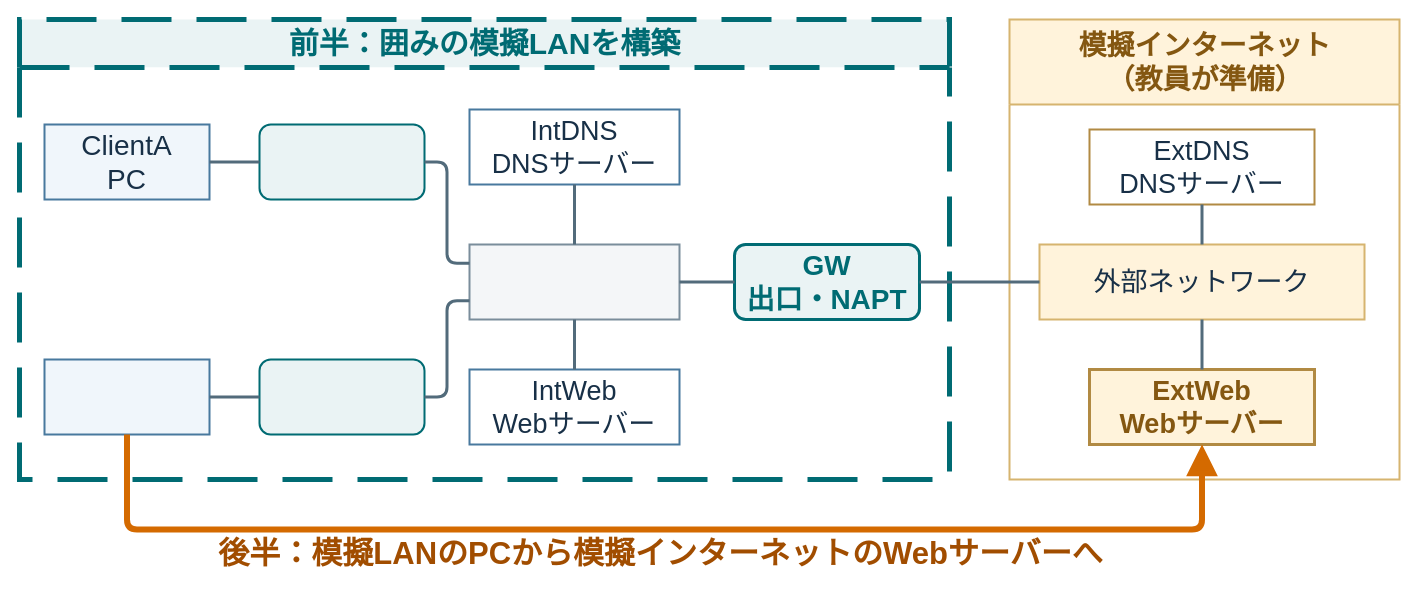
The diagram is 1418 pixels wide and 589 high, and some of its shapes have lost their labels. The shapes that lost their labels are listed below. From the top down, each one's centre as x and y in pixels, then its label:
At point 341,161: "R1 ルーター".
At point 574,281: "スイッチ （中継）".
At point 126,396: "ClientB PC".
At point 341,396: "R2 ルーター".
